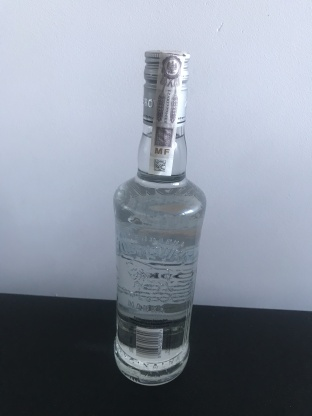nakretka: (139, 42, 192, 130)
